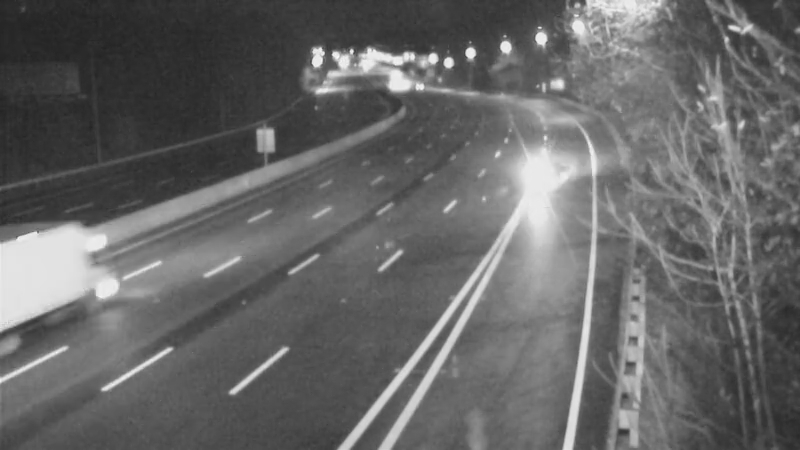vehicle: (513, 124, 593, 204), (21, 238, 101, 318), (392, 64, 442, 114)
